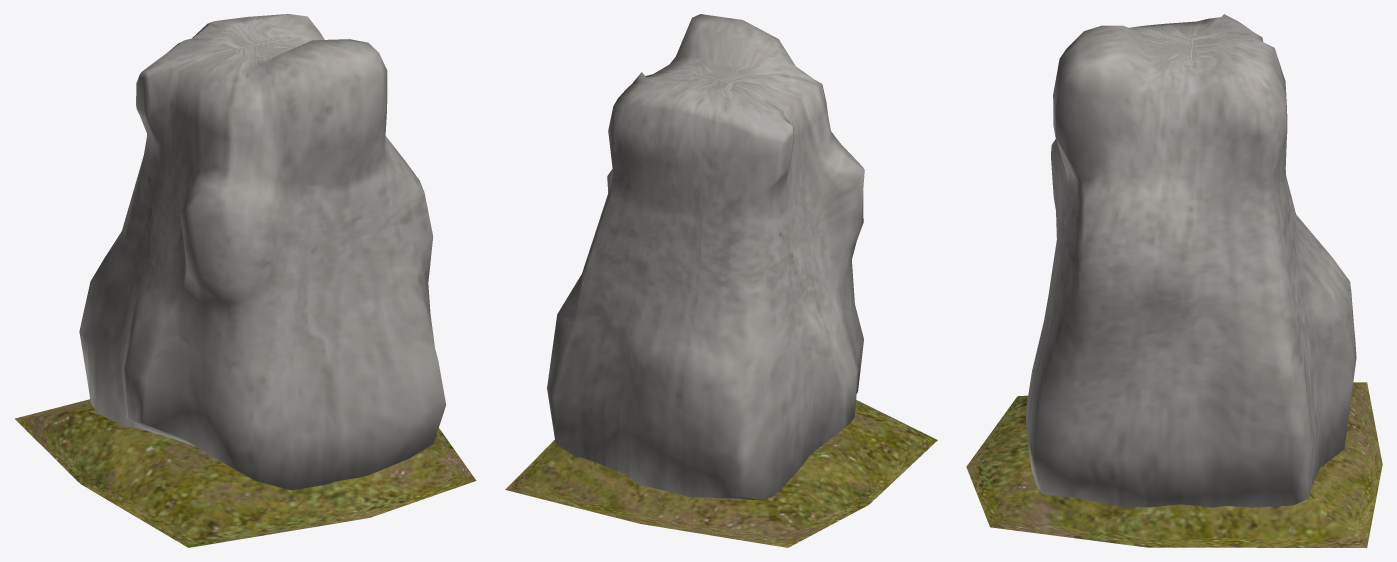
File: rock_middle.fbx
3 views of the same model, side by side, from view 1: azimuth 30°, elevation 25°; view 2: azimuth 150°, elevation 25°; view 3: azimuth 270°, elevation 25° (orthographic). The views are drawn at different scales.
Visible parts, largest first — view 1: rock_midle; view 2: rock_midle; view 3: rock_midle.
Boxes of the visible parts, left/top/right/bottom form: rock_midle: left=15, top=14, right=476, bottom=547; rock_midle: left=505, top=14, right=937, bottom=547; rock_midle: left=966, top=14, right=1382, bottom=547.
Size of the model in its own units: 105 by 132 by 111.
1 material, 1 textured.
